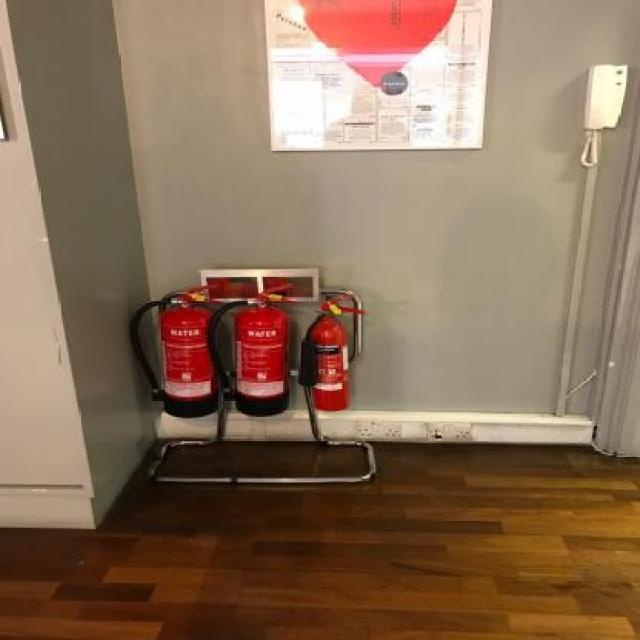fire extinguisher: (206, 284, 302, 418), (129, 283, 223, 419), (298, 291, 365, 412)
